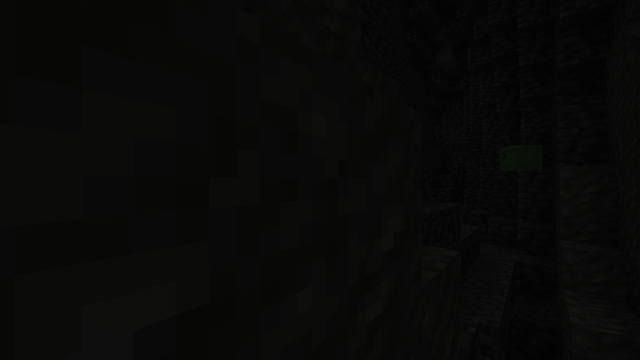slimes: (503, 143, 535, 171)
